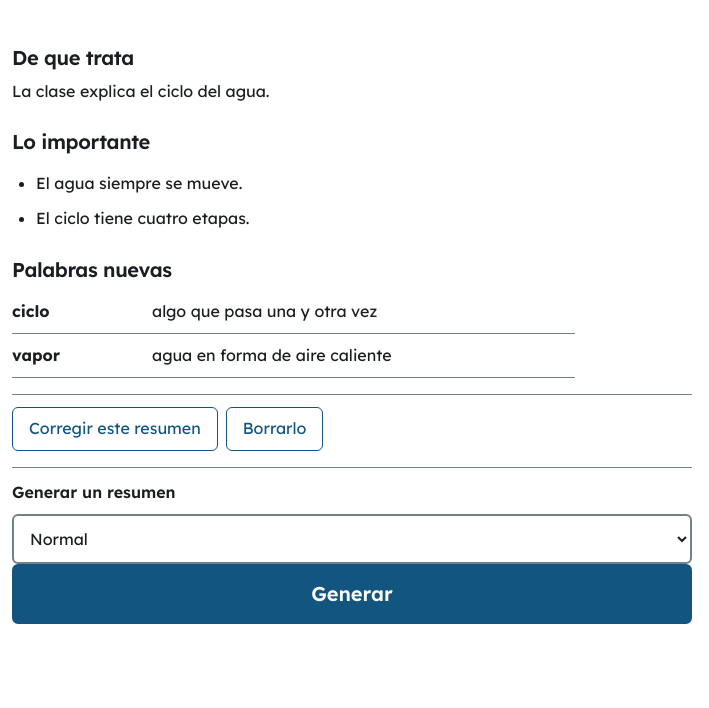
Test case: Resumen de la clase › si falla la generación, se dice por qué
The image size is (709, 708).
Expected: the heading "De que trata" is shown, [12,45,134,70]
Click the button "Generar" at (352, 594), box [12,564,692,624]
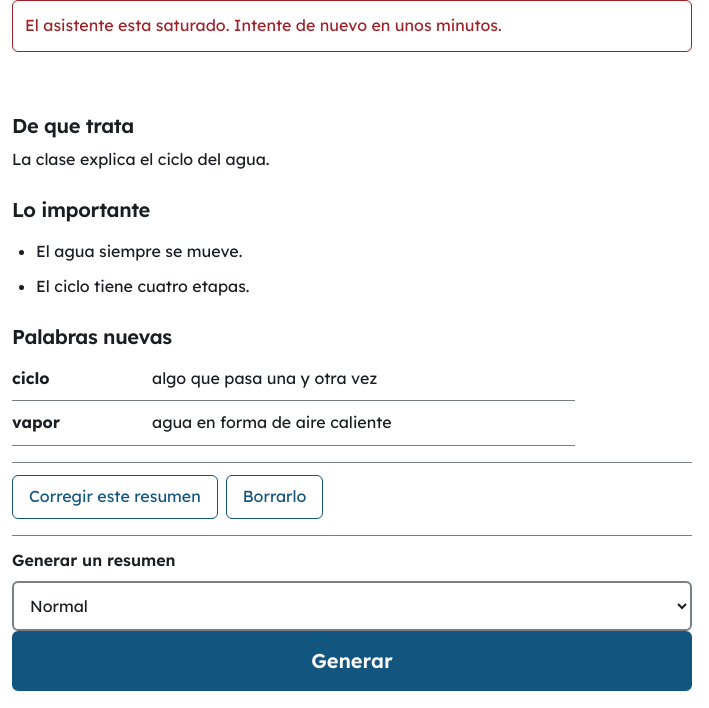
Expected: the message shows "saturado", [25,15,502,35]
